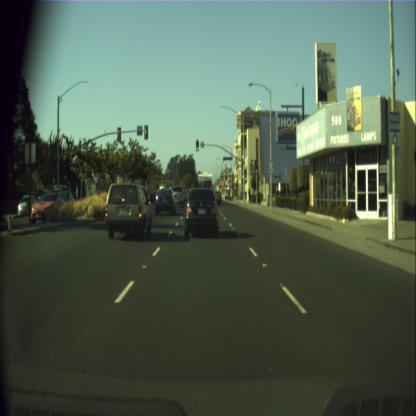Green: (254, 160, 258, 172), (244, 169, 247, 177), (196, 140, 198, 150)
